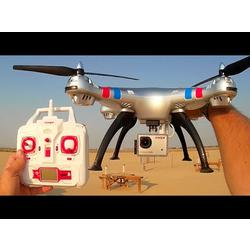drone: (12, 58, 250, 172)
